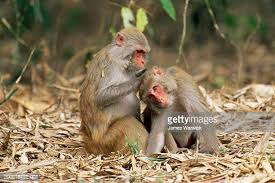monkey: (112, 37, 261, 161), (61, 20, 144, 176)
